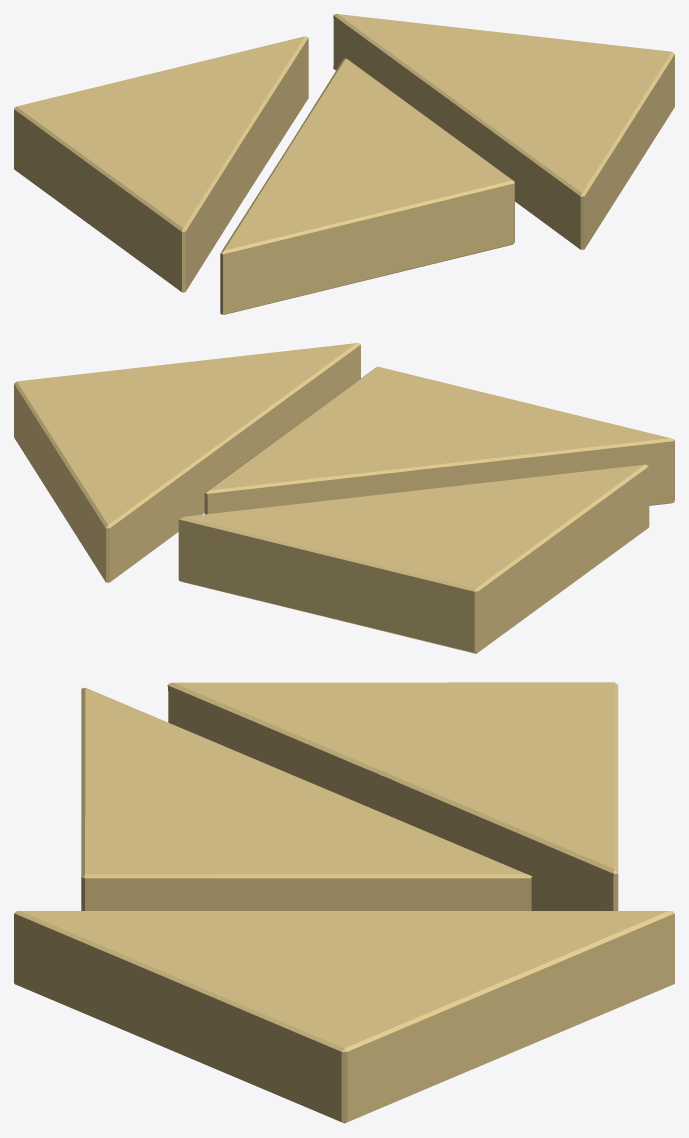
File: Figuras_Base.fbx
The picture shows the model from 3 angles, top to bottom: view 1: azimuth 30°, elevation 25°; view 2: azimuth 150°, elevation 25°; view 3: azimuth 270°, elevation 25°; orthographic projection. The views are drawn at different scales.
Visible parts, largest first — view 1: polySurface55, polySurface38, polySurface42; view 2: polySurface38, polySurface42, polySurface55; view 3: polySurface42, polySurface38, polySurface55.
Part boxes in pixels (bbox=[...]): polySurface55: bbox=[220, 58, 514, 314]; polySurface38: bbox=[14, 36, 308, 292]; polySurface42: bbox=[333, 14, 674, 249]; polySurface38: bbox=[178, 464, 649, 653]; polySurface42: bbox=[14, 343, 360, 582]; polySurface55: bbox=[204, 366, 674, 514]; polySurface42: bbox=[14, 911, 674, 1123]; polySurface38: bbox=[167, 682, 618, 910]; polySurface55: bbox=[81, 687, 532, 910].
Size of the model in its own units: 12.5 by 1.38 by 9.67.
